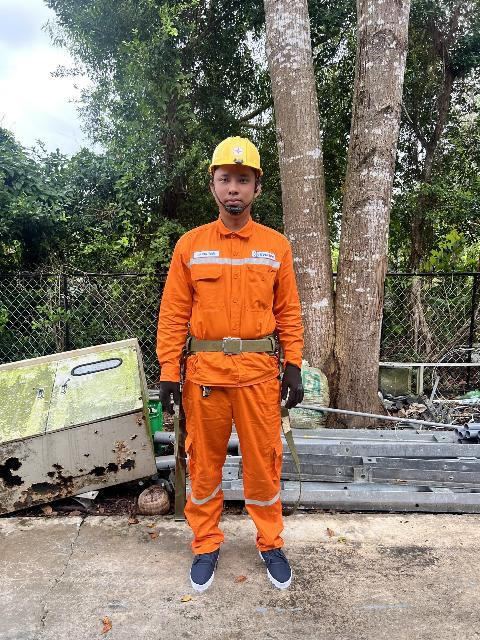gloves: (145, 372, 194, 422), (279, 356, 317, 416)
harness: (167, 331, 287, 371)
helmet: (196, 136, 273, 174)
shoes: (177, 539, 229, 617), (244, 531, 309, 592)
